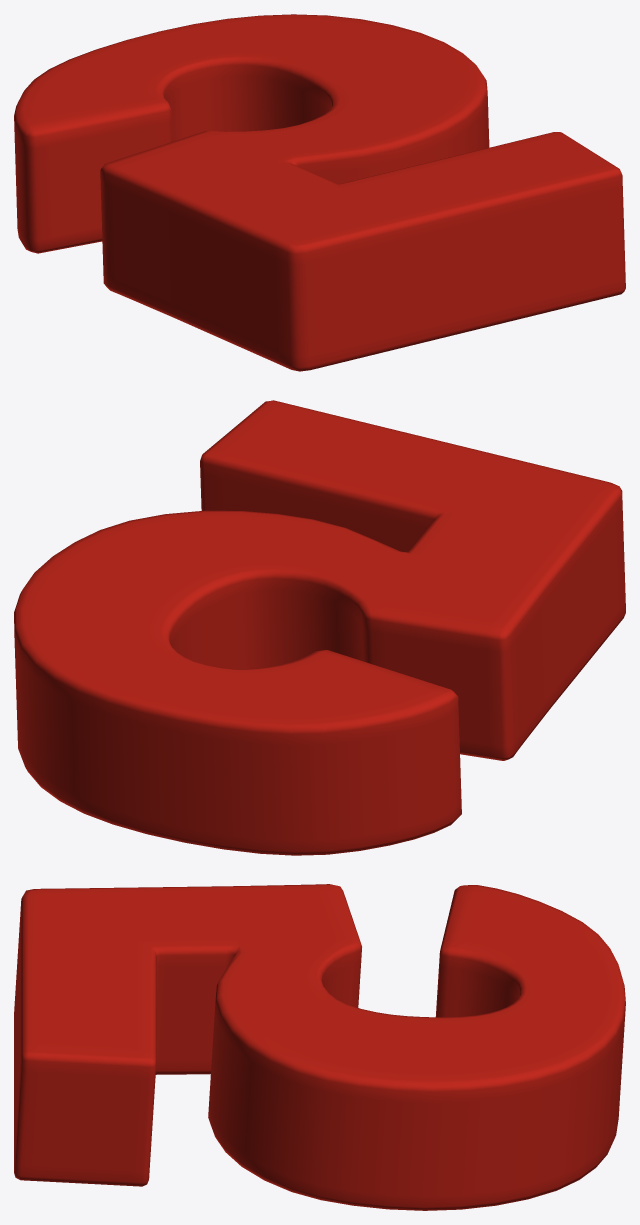
3 renders of one model, top to bottom at view 1: azimuth 30°, elevation 25°; view 2: azimuth 150°, elevation 25°; view 3: azimuth 270°, elevation 25°, orthographic. The views are drawn at different scales.
Visible parts, largest first — view 1: Five_lambert1_0; view 2: Five_lambert1_0; view 3: Five_lambert1_0.
Part boxes in pixels (x1,y1,x2,y2): Five_lambert1_0: [14, 14, 625, 371]; Five_lambert1_0: [14, 400, 625, 855]; Five_lambert1_0: [14, 884, 625, 1210].
Bounding box in the file's own units: 1.75 × 0.6261 × 2.19.
